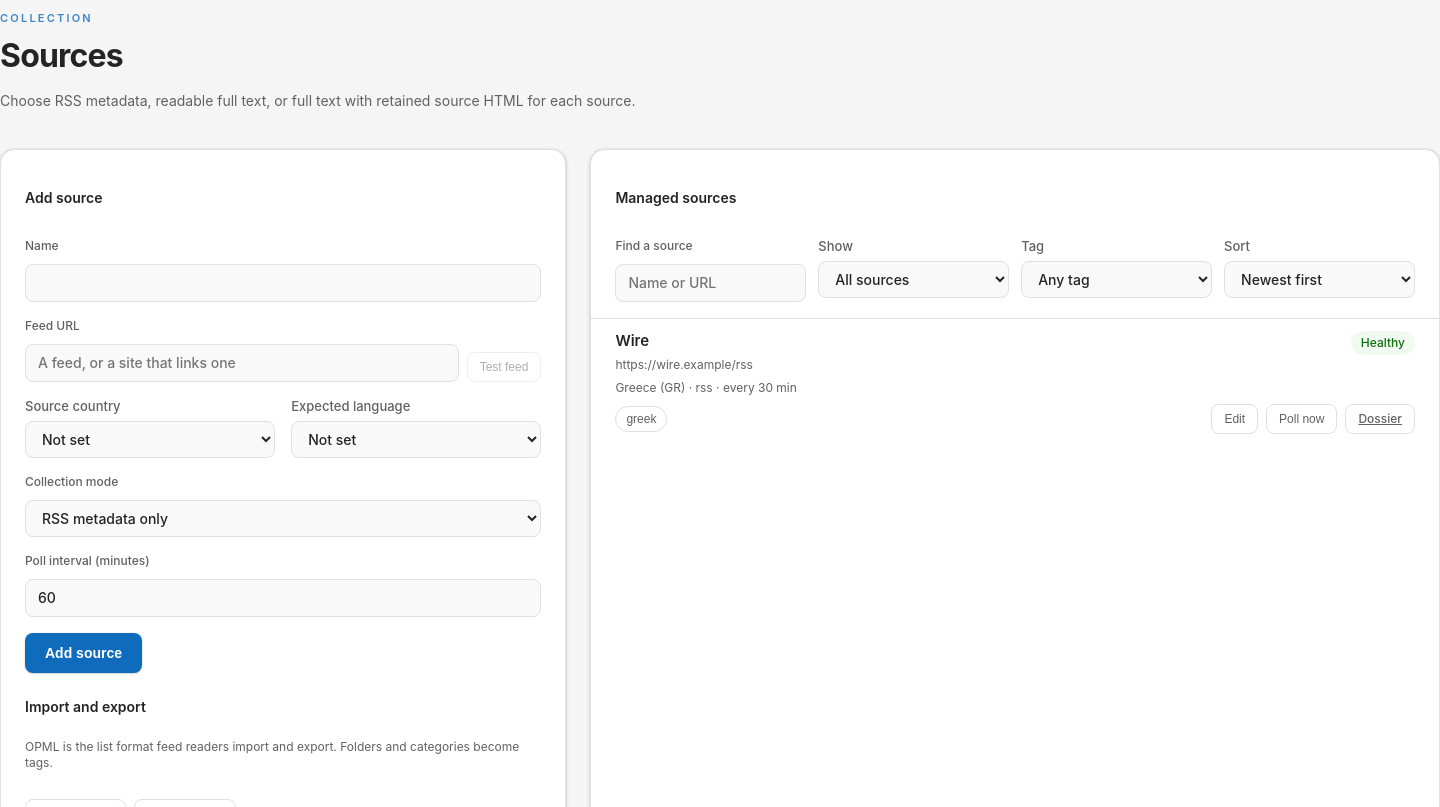
Test: clears a country, turns collection off, and says why a change was refused
Click the button with aria-label "Edit Wire" at [1235, 419], box [1211,404,1258,434]
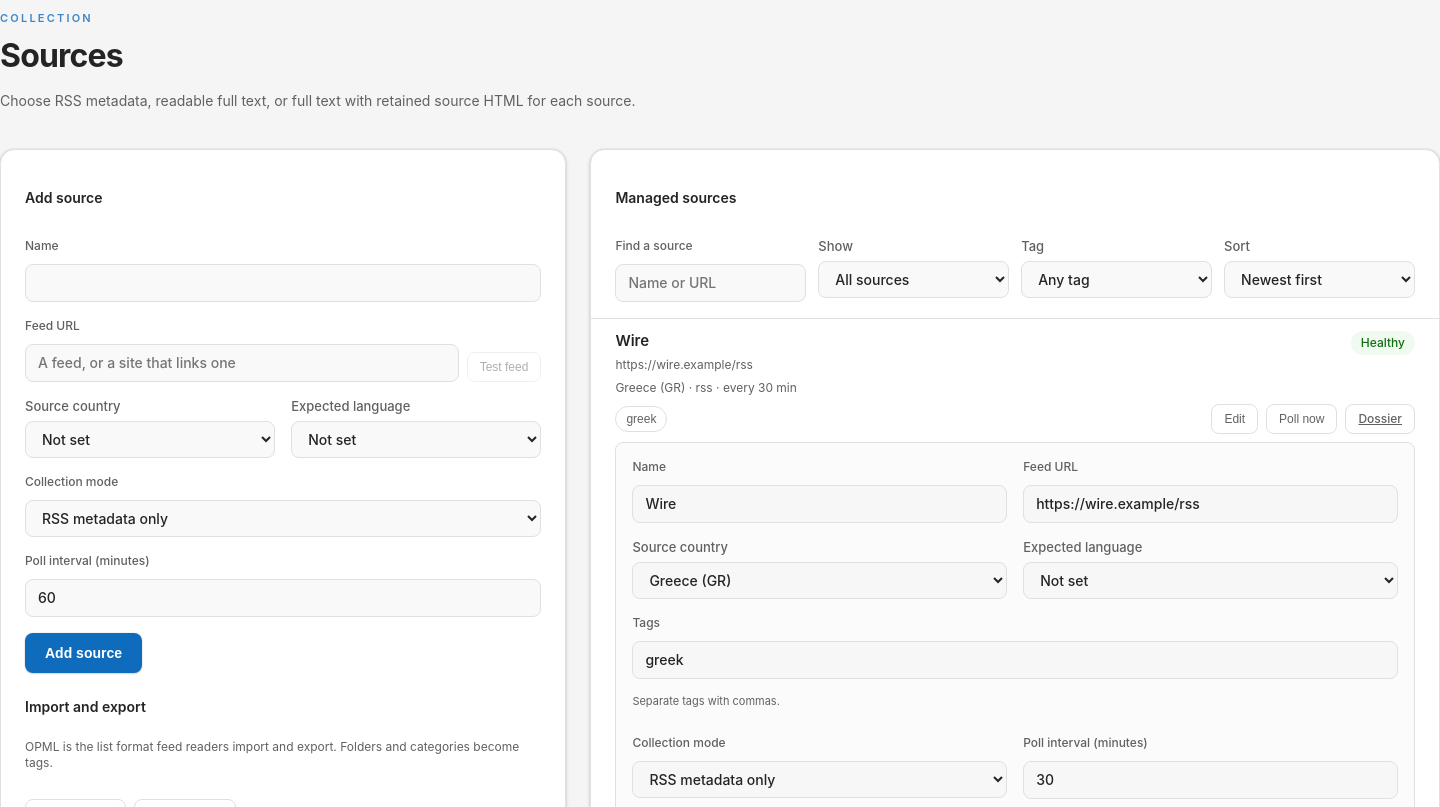
Select "Not set" in the dropdown labelled "Source country" below "Greece (GR) · rss · every 30 min" at [820, 581], box [632,562,1007,599]
(page scrolled)
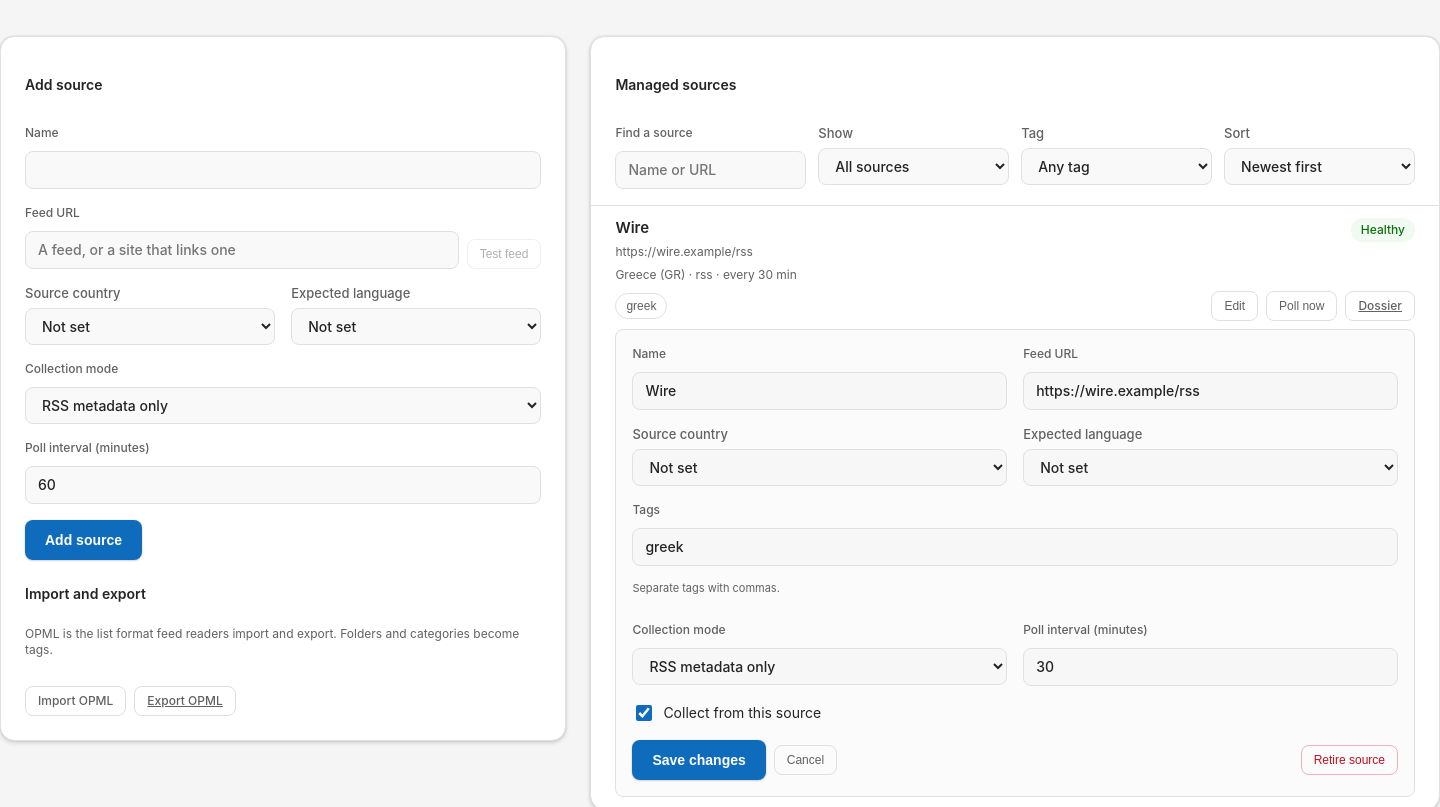
Click the checkbox labelled "Collect from this source" at [644, 713], box [636,705,652,721]
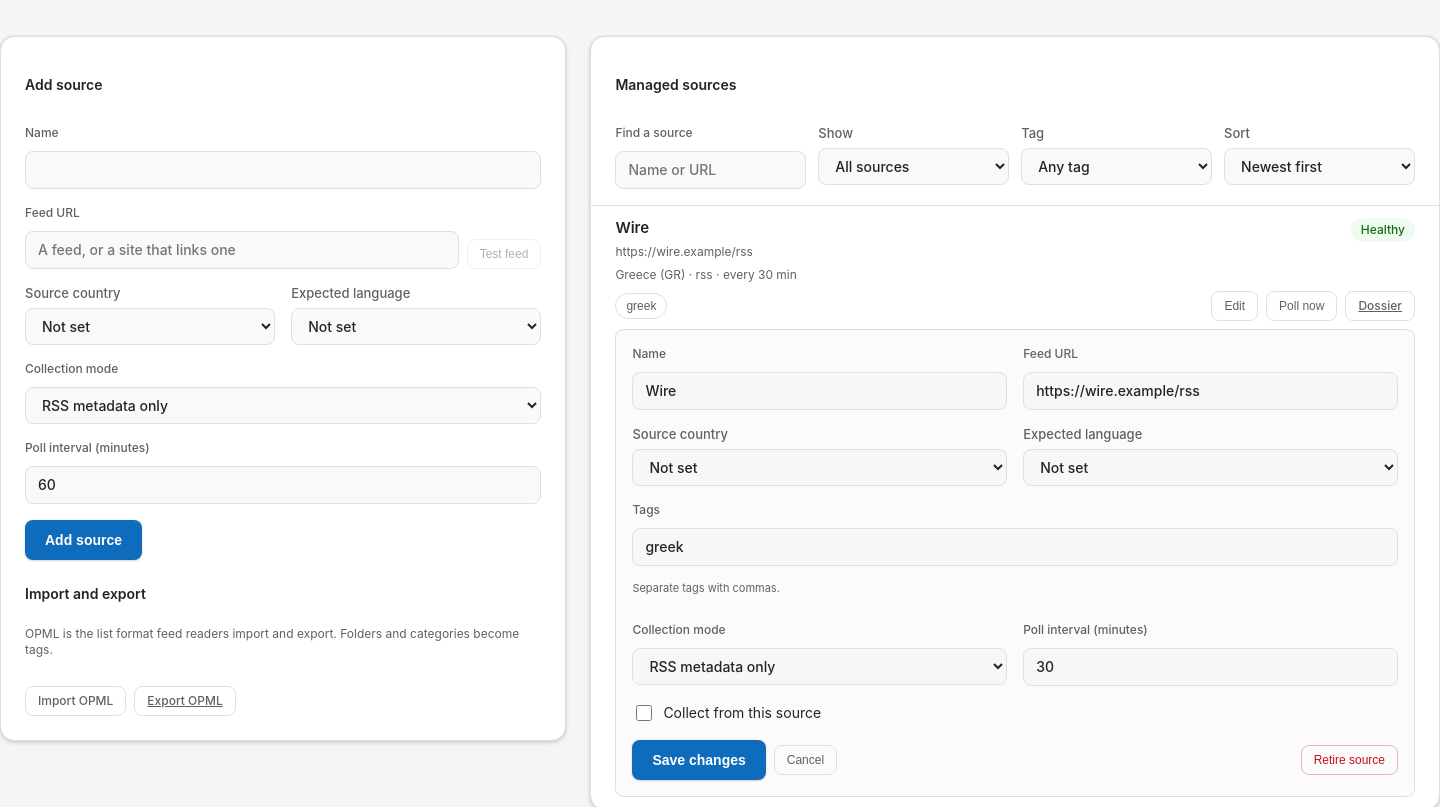
Click the button "Save changes" at [699, 760], box [632,740,766,780]
(page scrolled)
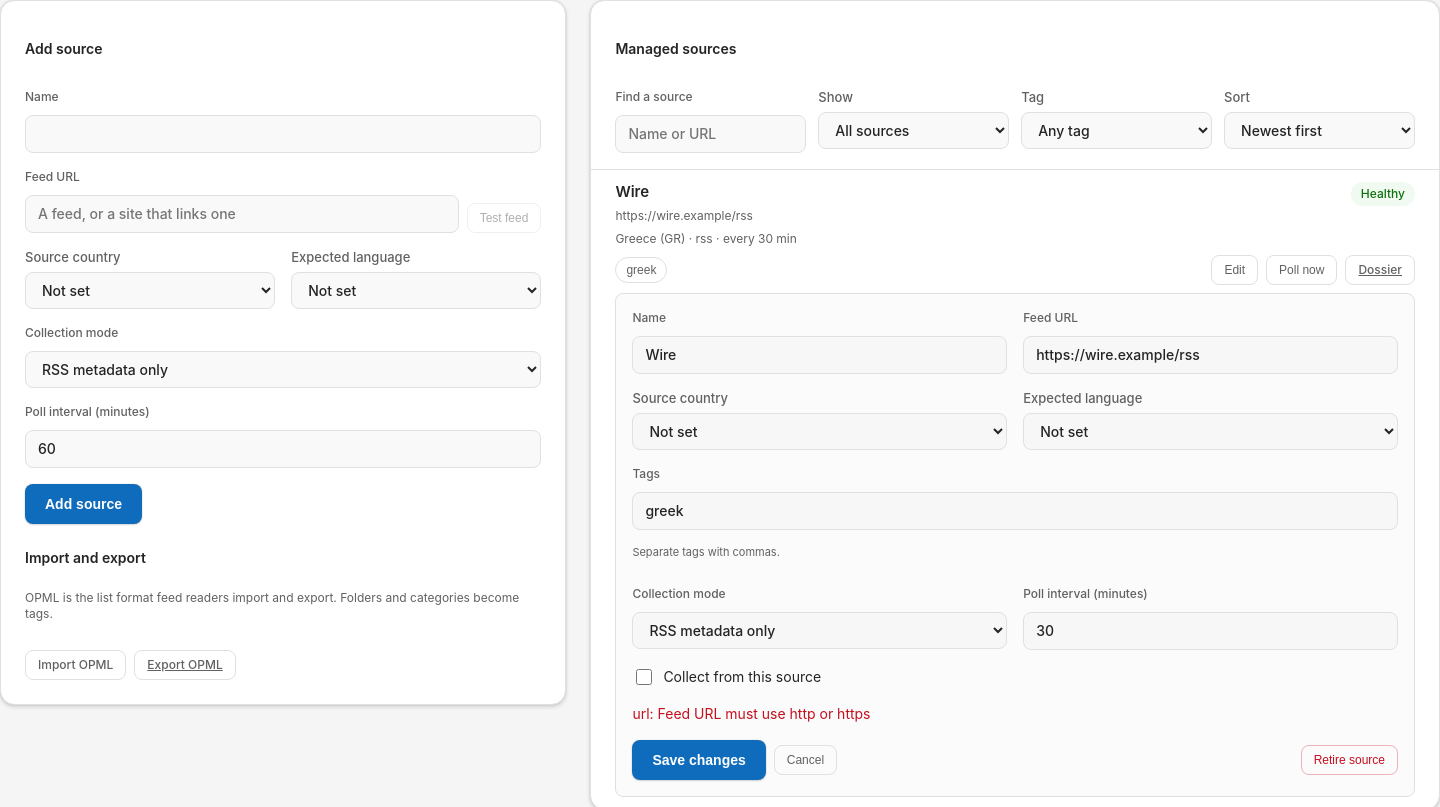
Expected: the form named "Edit Wire" is shown, [615,293,1415,797]
Expected: the message reads "url: Feed URL must use http or https", [632,705,870,722]
